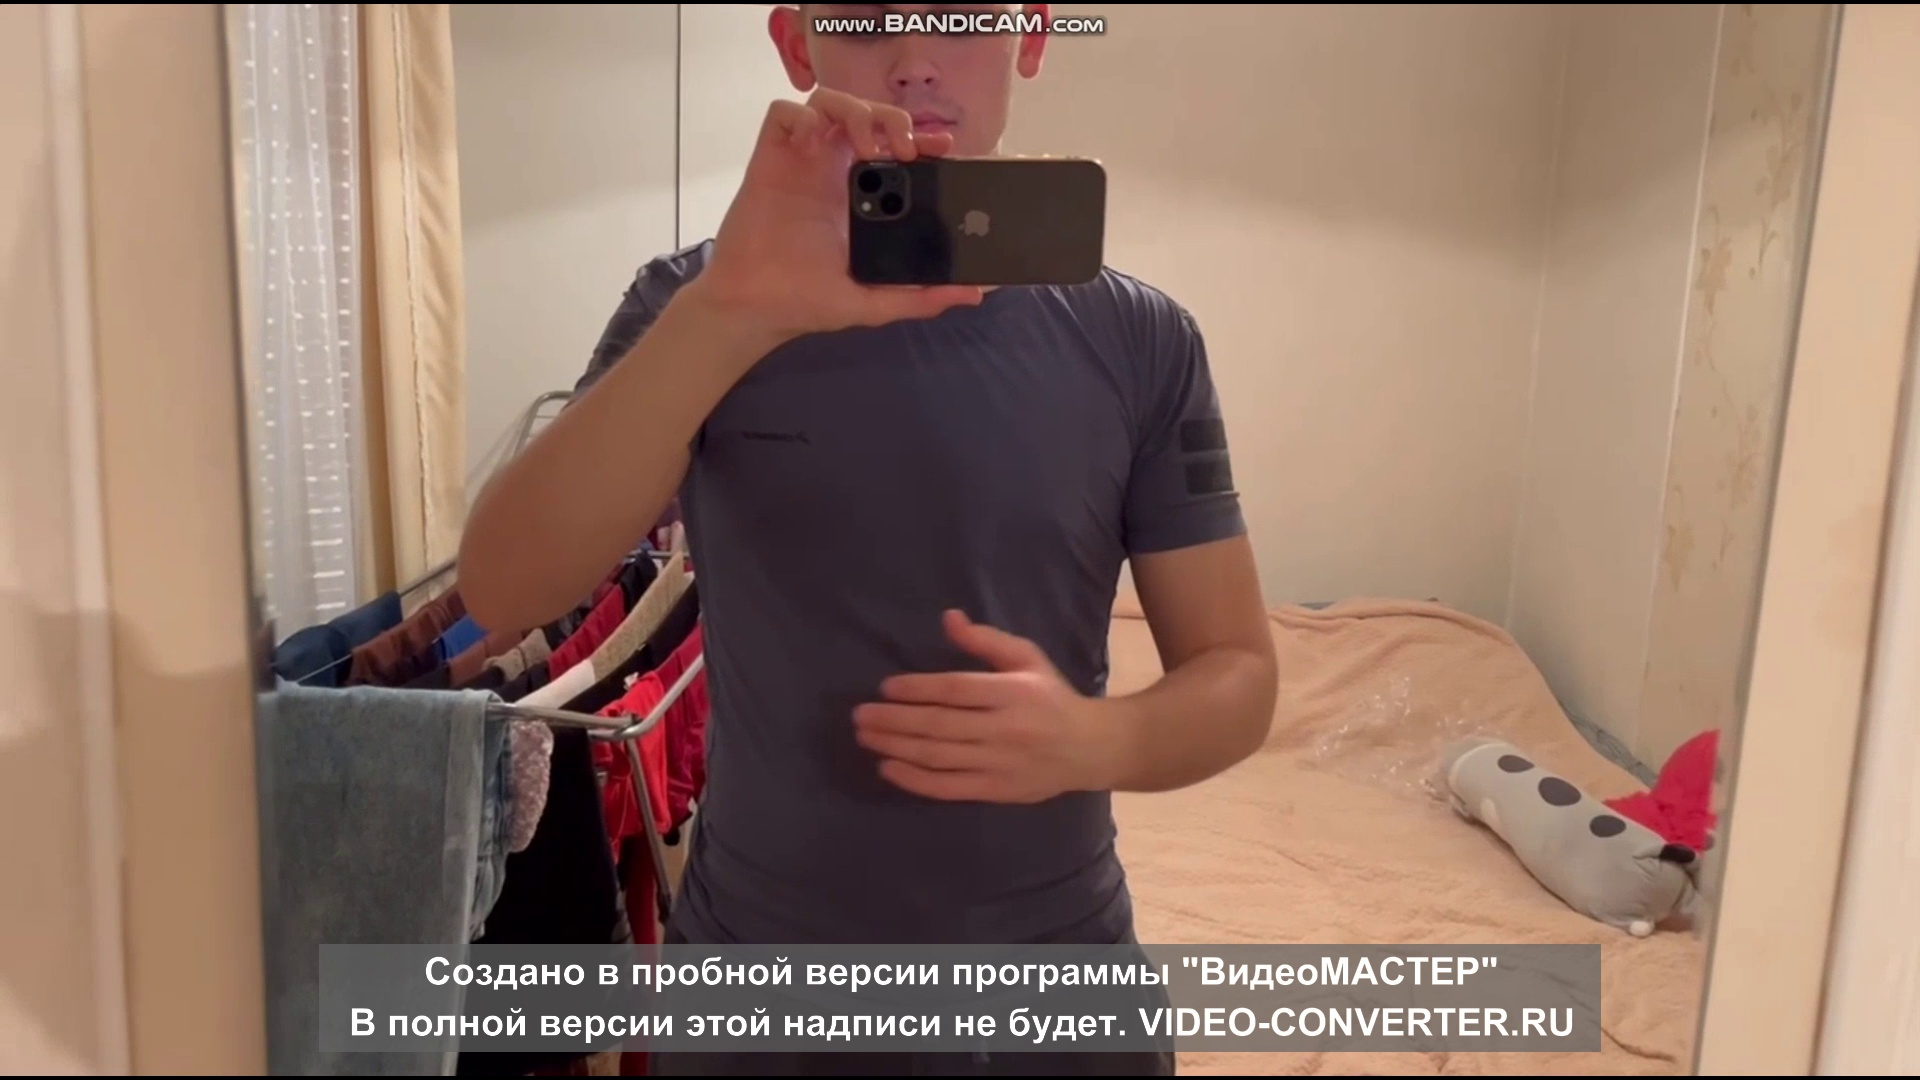Кисть: (851, 604, 1102, 808)
